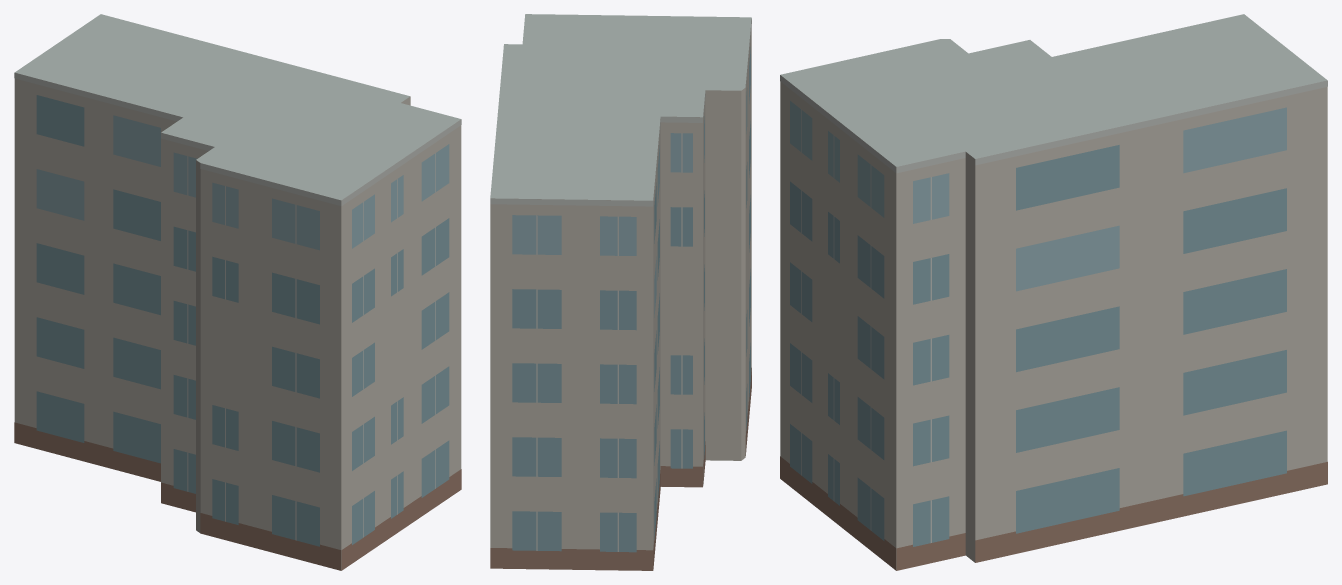
The model's file is survey-upis-32614511.glb.
3 views of the same model, side by side, from view 1: azimuth 30°, elevation 25°; view 2: azimuth 150°, elevation 25°; view 3: azimuth 270°, elevation 25° (orthographic). The views are drawn at different scales.
Parts seen in each view (by area): view 1: survey-upis-32614511.tmp; view 2: survey-upis-32614511.tmp; view 3: survey-upis-32614511.tmp.
Part boxes in pixels (x1,y1,x2,y2): survey-upis-32614511.tmp: [14, 14, 461, 570]; survey-upis-32614511.tmp: [490, 14, 751, 570]; survey-upis-32614511.tmp: [780, 14, 1327, 570].
Bounding box in the file's own units: 12.52 × 15.4 × 18.93.
